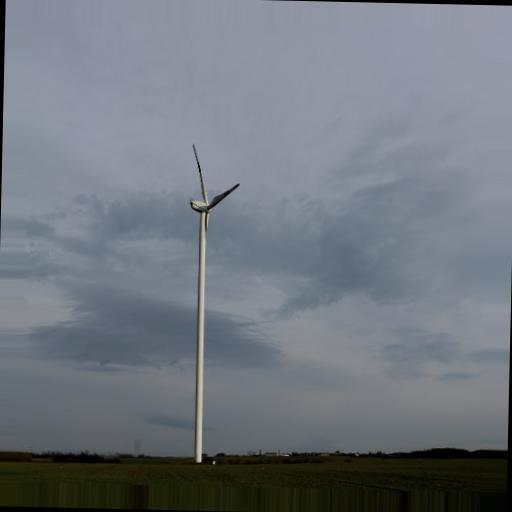wind turbine: (189, 142, 241, 465)
